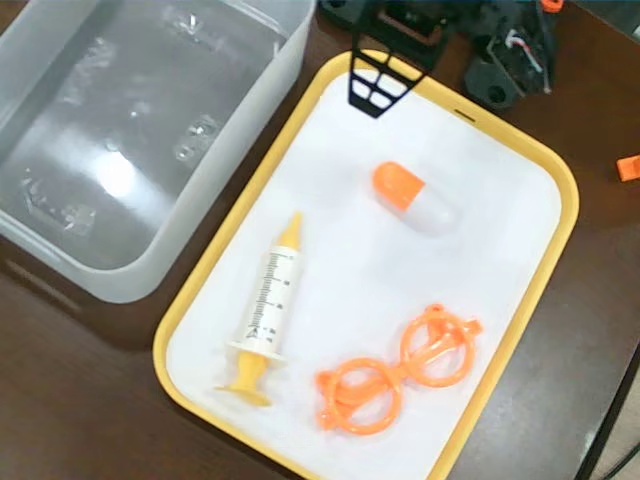pill: (371, 157, 459, 239)
syringe: (209, 208, 304, 414)
